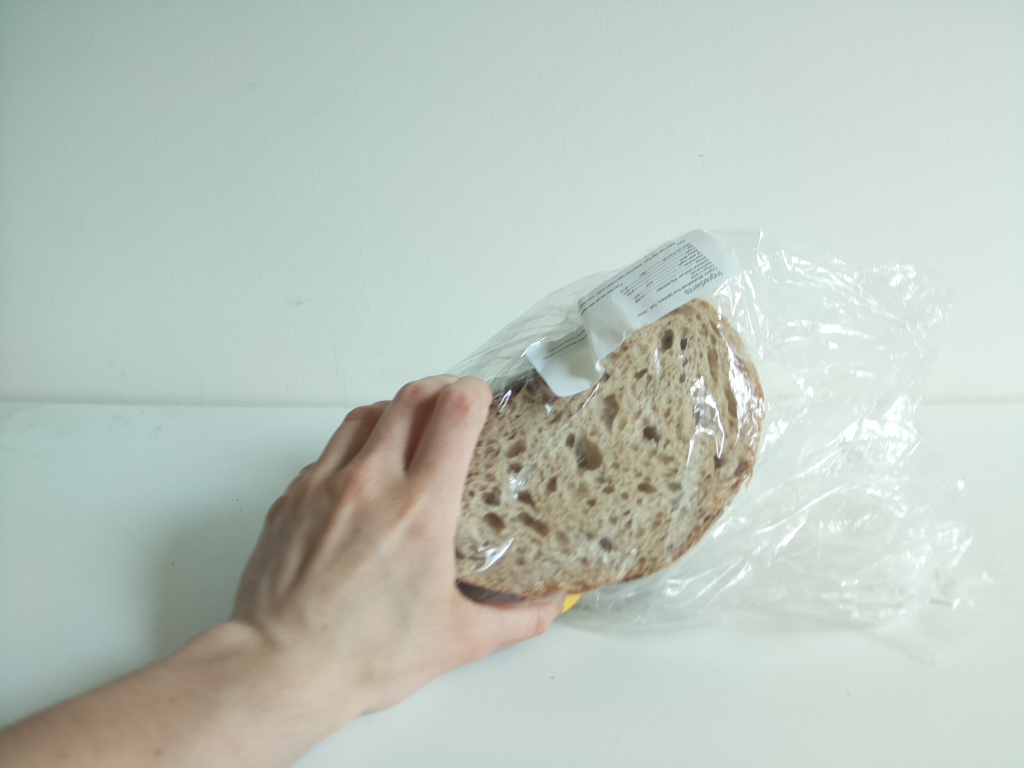bread: (454, 298, 768, 594)
